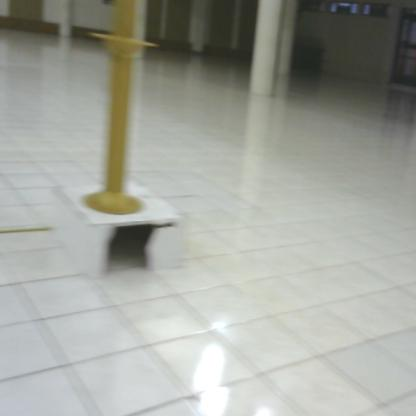pole: (80, 1, 165, 216)
